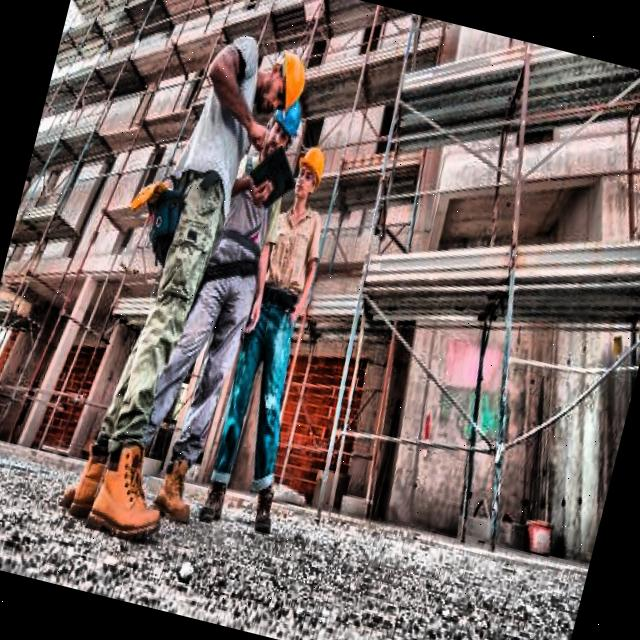helmet: (254, 42, 310, 124), (258, 88, 307, 164), (286, 138, 332, 212)
